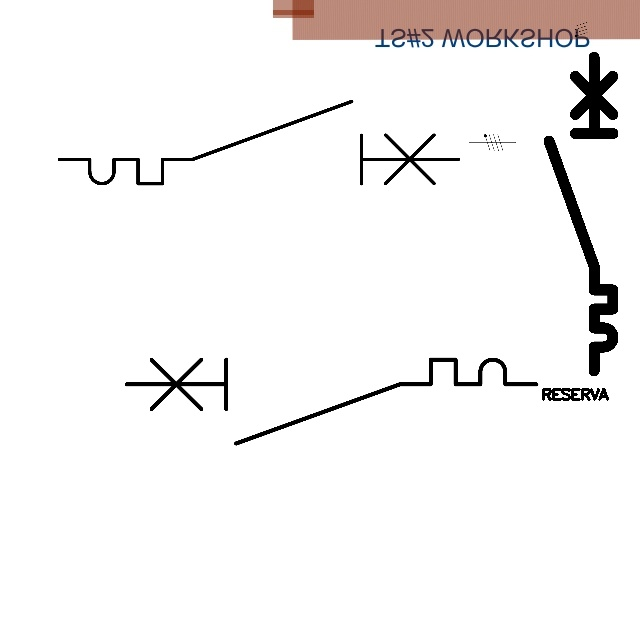interruptor_termomagnetico: (116, 349, 547, 454), (49, 91, 468, 194), (541, 49, 621, 379)
